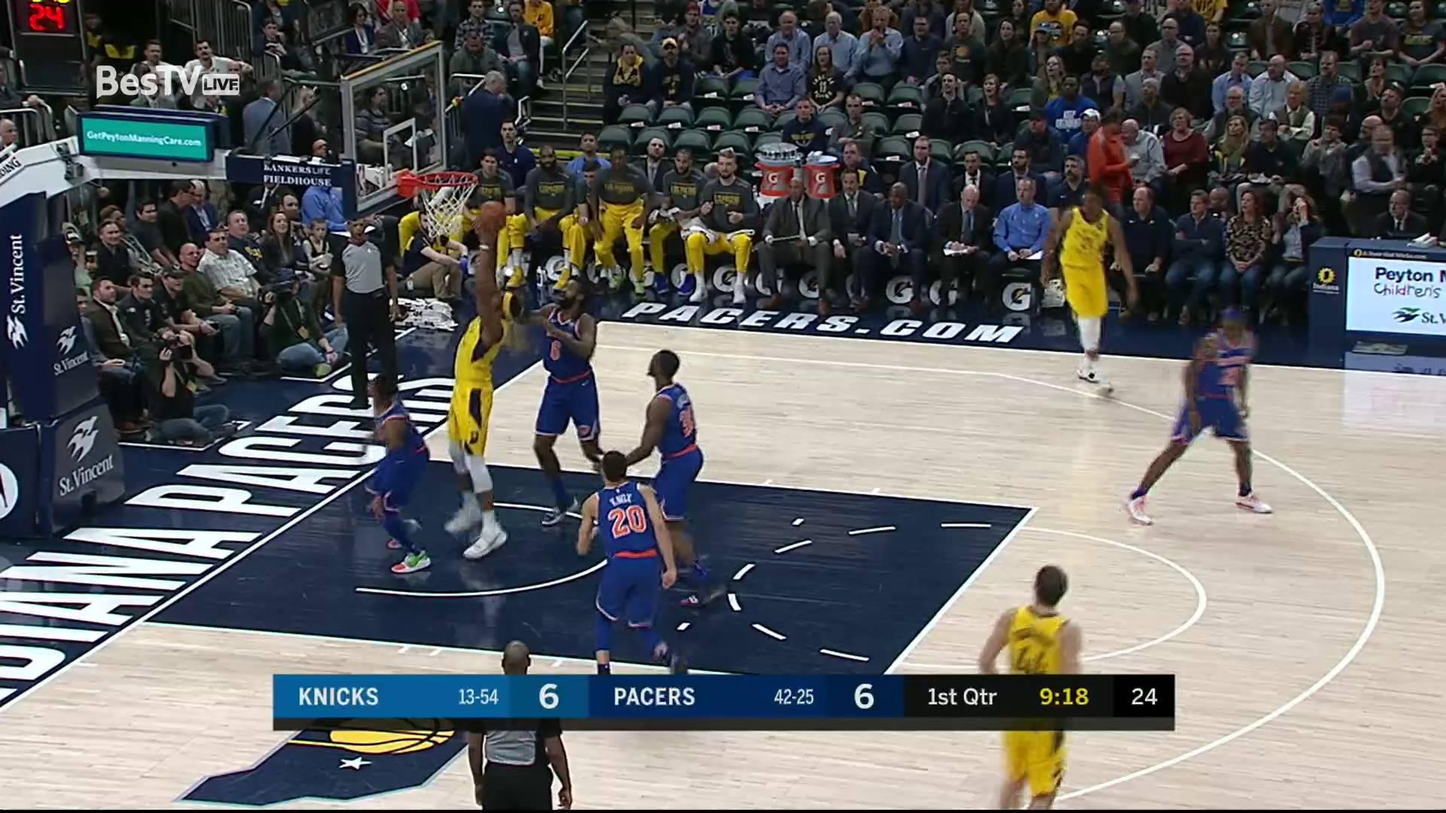basketball: (476, 197, 510, 234)
